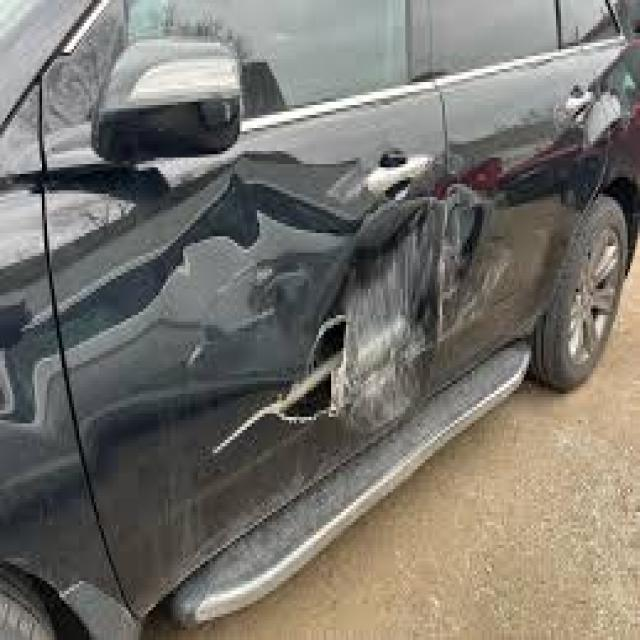damaged-door: (52, 3, 432, 574)
